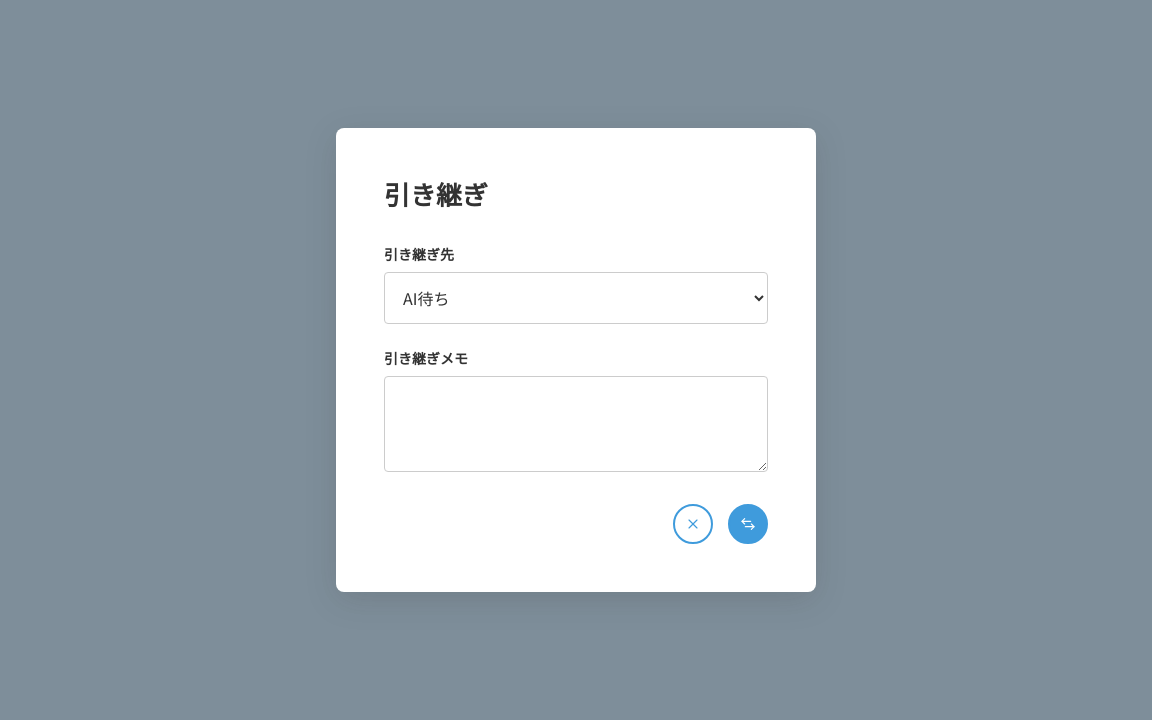
Test: HandoffDialog › メモ未入力で送信するとエラーを表示し、遷移は呼ばれない
Click the button named "引き継ぐ".
click(748, 524)  # box [728, 504, 768, 544]
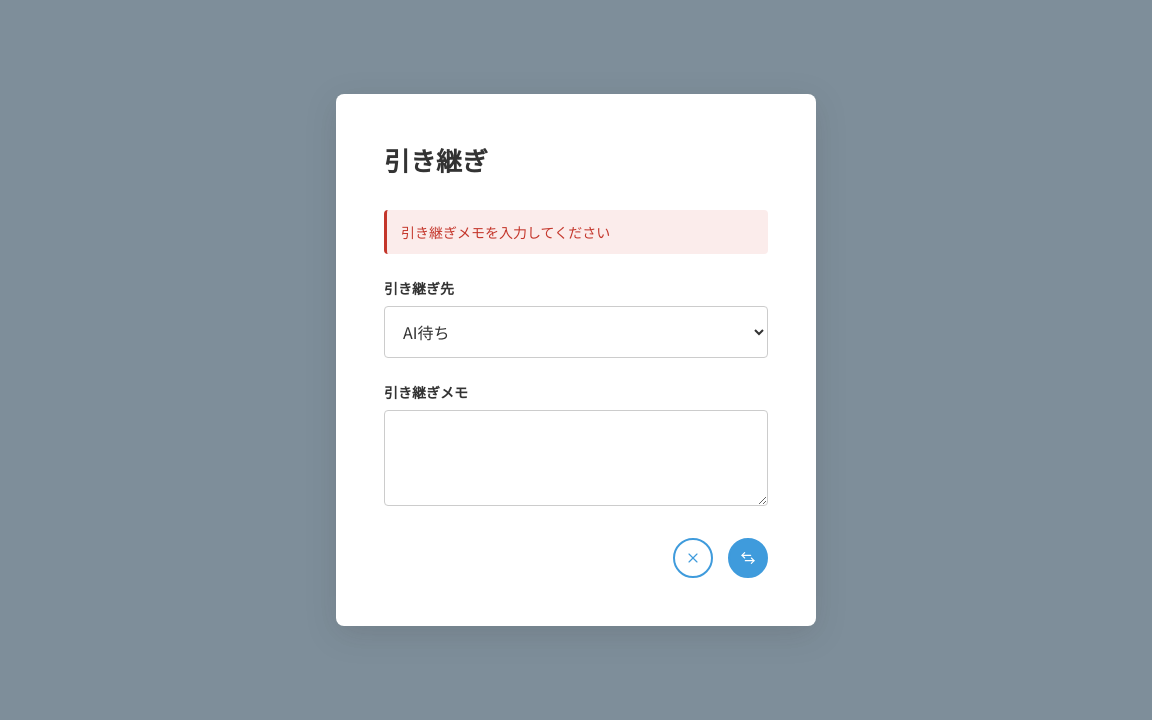
Result: the message "引き継ぎメモを入力してください" is shown at [384, 210, 768, 254]
